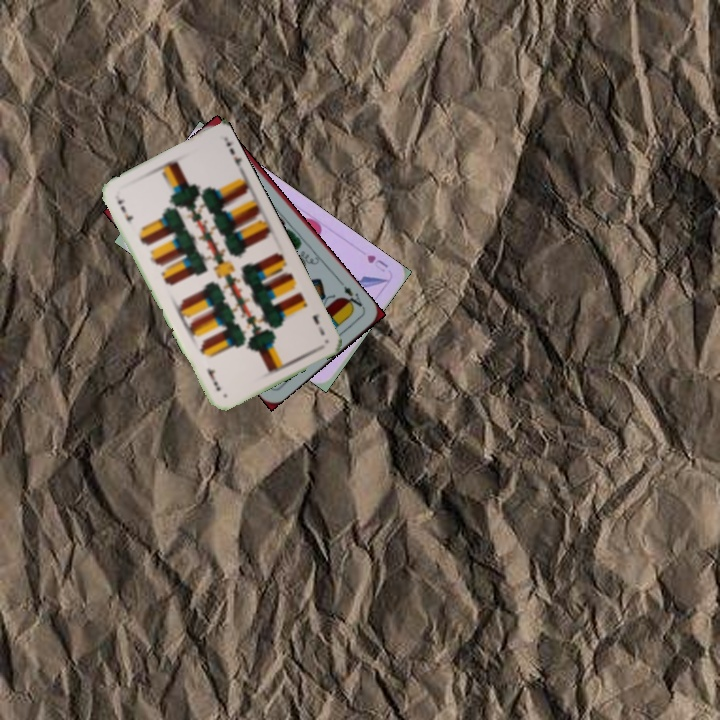E7: (113, 195, 136, 227), (308, 310, 327, 338)
EA: (336, 278, 367, 312)
HU: (362, 251, 391, 275)
